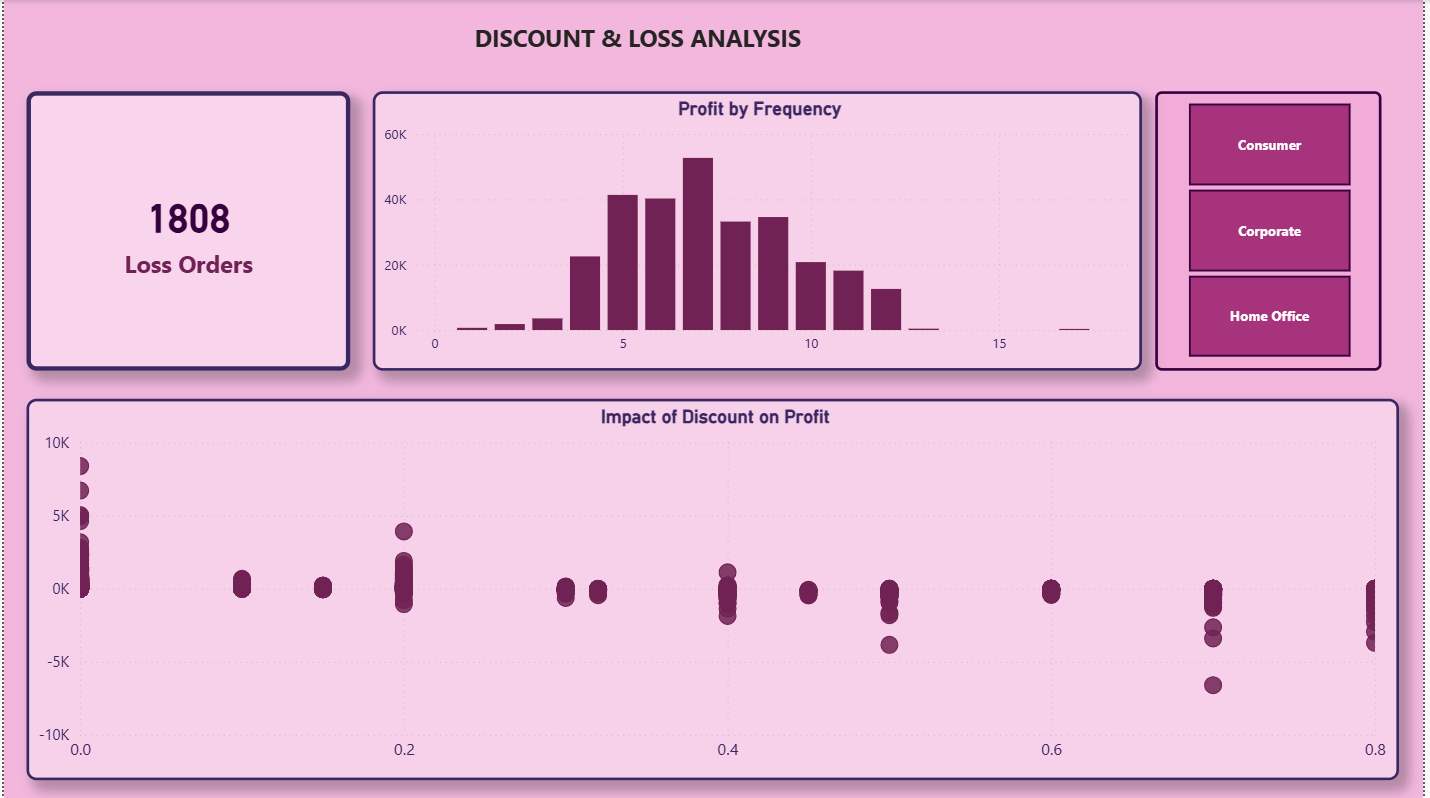

The page's visual inventory and layout, read from the dashboard file:
{"tool":"powerbi","page":{"name":"Page 3","canvas":[1280,720],"ordinal":2},"visuals":[{"type":"textbox","box":[398.6,14.7,344.8,67.3],"z":0},{"type":"scatterChart","title":"Impact of Discount on Profit","fields":{"X":["retail_analysis orders.discount"],"Y":["retail_analysis orders.profit"]},"box":[20.8,359.5,1237.5,343.6],"z":1000},{"type":"card","fields":{"Values":["retail_analysis customer_rfm.Loss Orders"]},"box":[20.8,81.9,292.3,251.9],"z":2000},{"type":"clusteredColumnChart","title":"Profit by Frequency","fields":{"Y":["Sum(retail_analysis orders.profit)"],"Category":["retail_analysis customer_rfm.Frequency"]},"box":[332.6,81.9,693.3,251.9],"z":2001},{"type":"slicer","fields":{"Values":["retail_analysis orders.segment"]},"box":[1038.2,81.9,204.2,251.9],"z":2002}]}

Visuals, with their boxes in screenshot pixels (x1, y1, x2, y2), scaled from the page's 1280x720 canvas onto the 1430x798 screenshot:
textbox: 445, 16, 831, 91
"Impact of Discount on Profit" scatterChart: 23, 398, 1406, 779
card - retail_analysis customer_rfm.Loss Orders: 23, 91, 350, 370
"Profit by Frequency" clusteredColumnChart: 372, 91, 1146, 370
slicer - retail_analysis orders.segment: 1160, 91, 1388, 370
